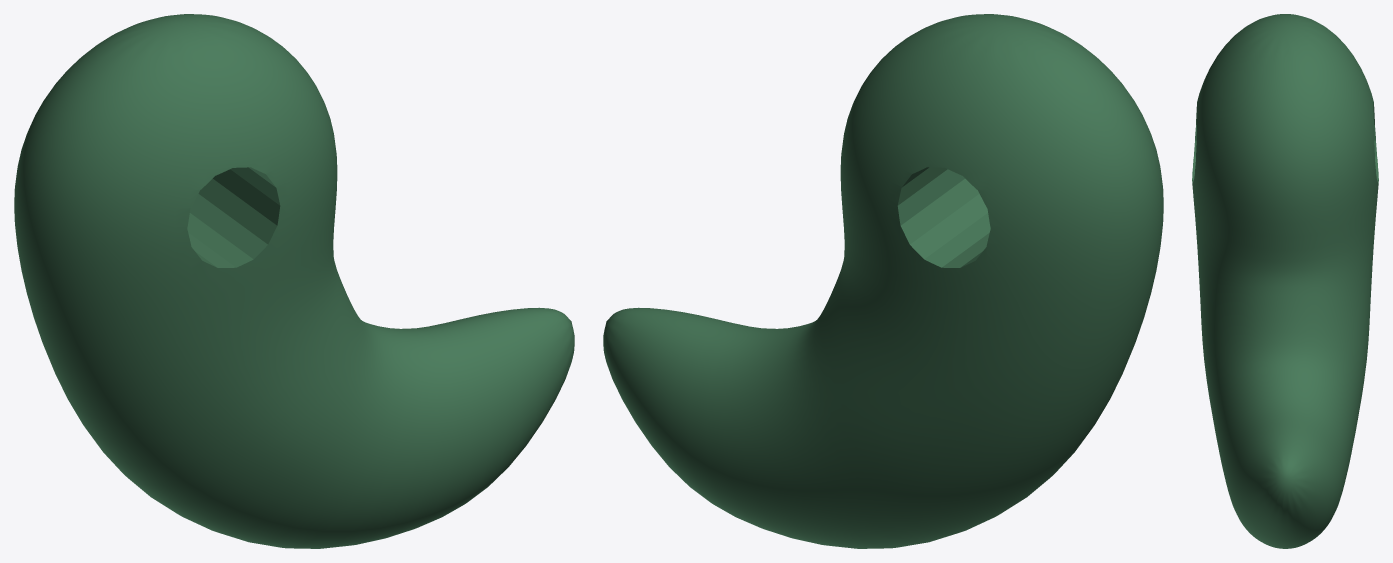
File: magatama.fbx
The picture shows the model from 3 angles, left to right: view 1: azimuth 30°, elevation 25°; view 2: azimuth 150°, elevation 25°; view 3: azimuth 270°, elevation 25°; orthographic projection. The views are drawn at different scales.
Visible parts, largest first — view 1: magatama; view 2: magatama; view 3: magatama.
Part boxes in pixels (x1,y1,x2,y2): magatama: [14, 14, 574, 548]; magatama: [603, 14, 1163, 548]; magatama: [1192, 14, 1378, 548].
Size of the model in its own units: 78.29 by 76.62 by 30.1.
